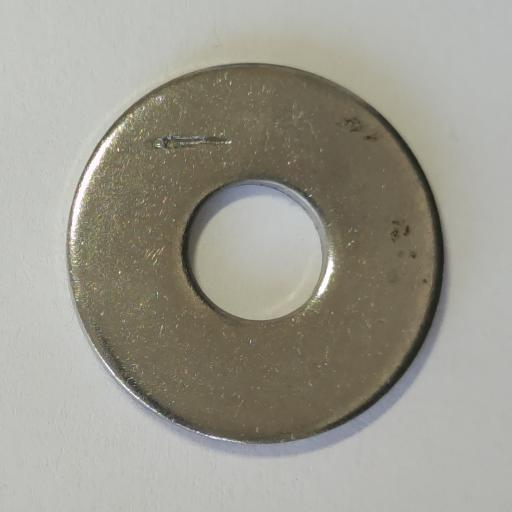scratch: (155, 134, 232, 154)
